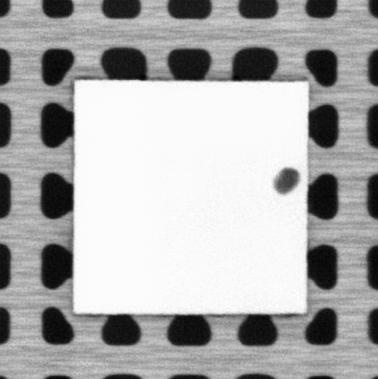DIE_INK: (272, 166, 302, 195)
